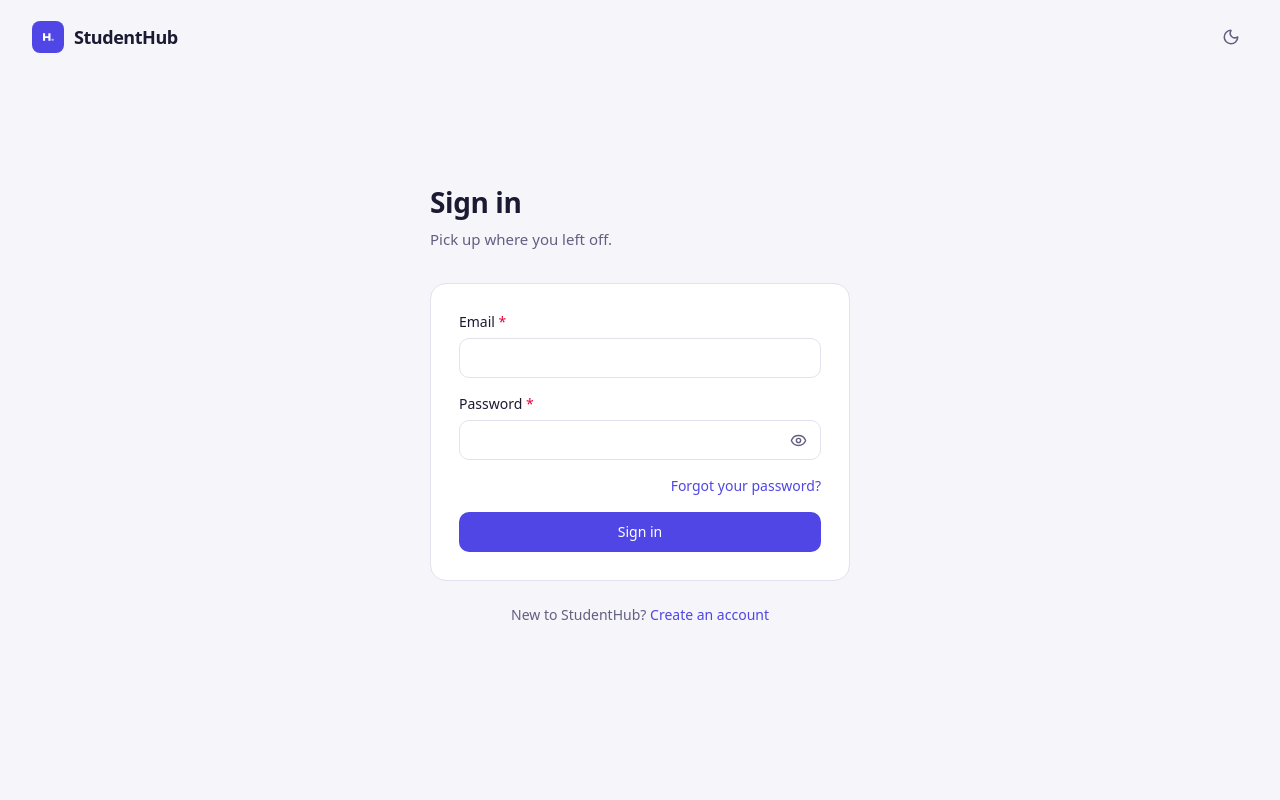
Login page › shows the server's message when sign-in fails
This screenshot has width=1280, height=800.
In the field labelled "Email *": (640, 358) [459,338,821,378], type "asha@example.com"
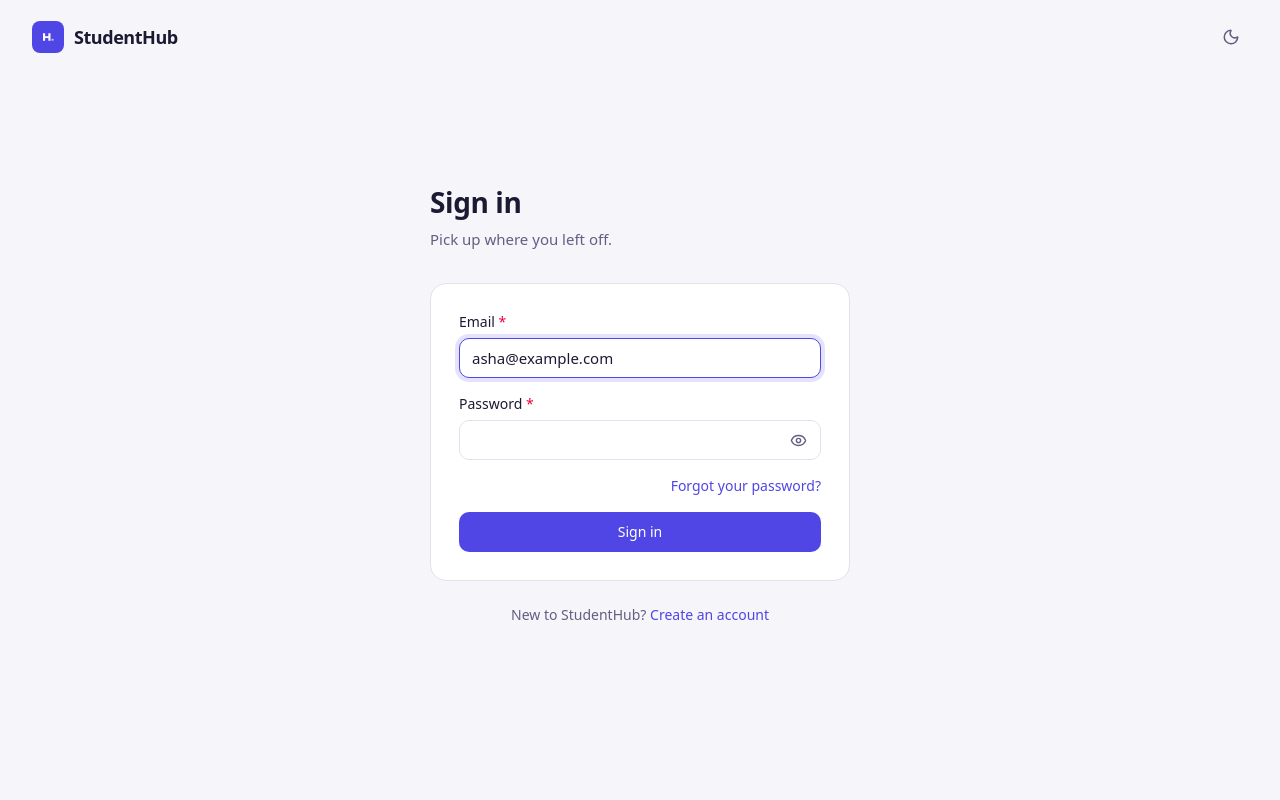
In the password field labelled "Password *": (640, 440) [459,420,821,460], type "wrongpass1"
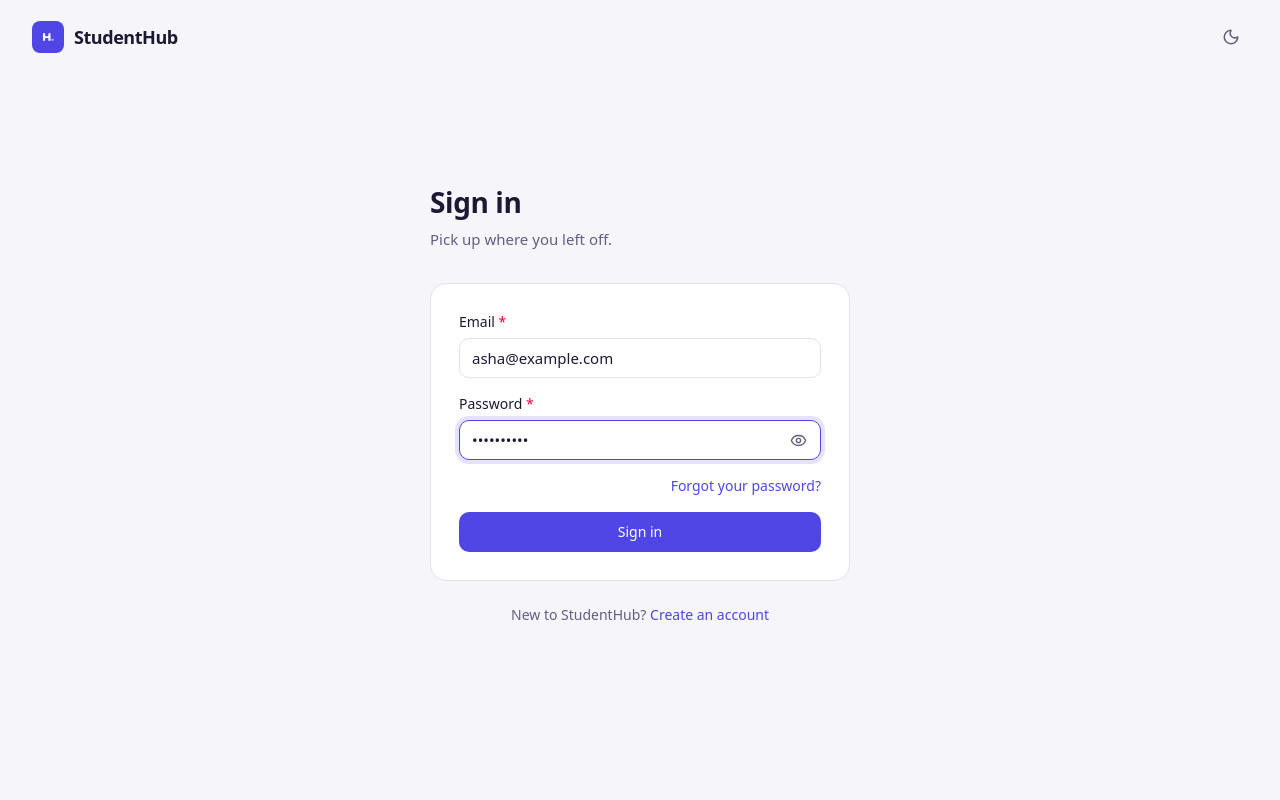
Click the button "Sign in": (640, 532) [459,512,821,552]
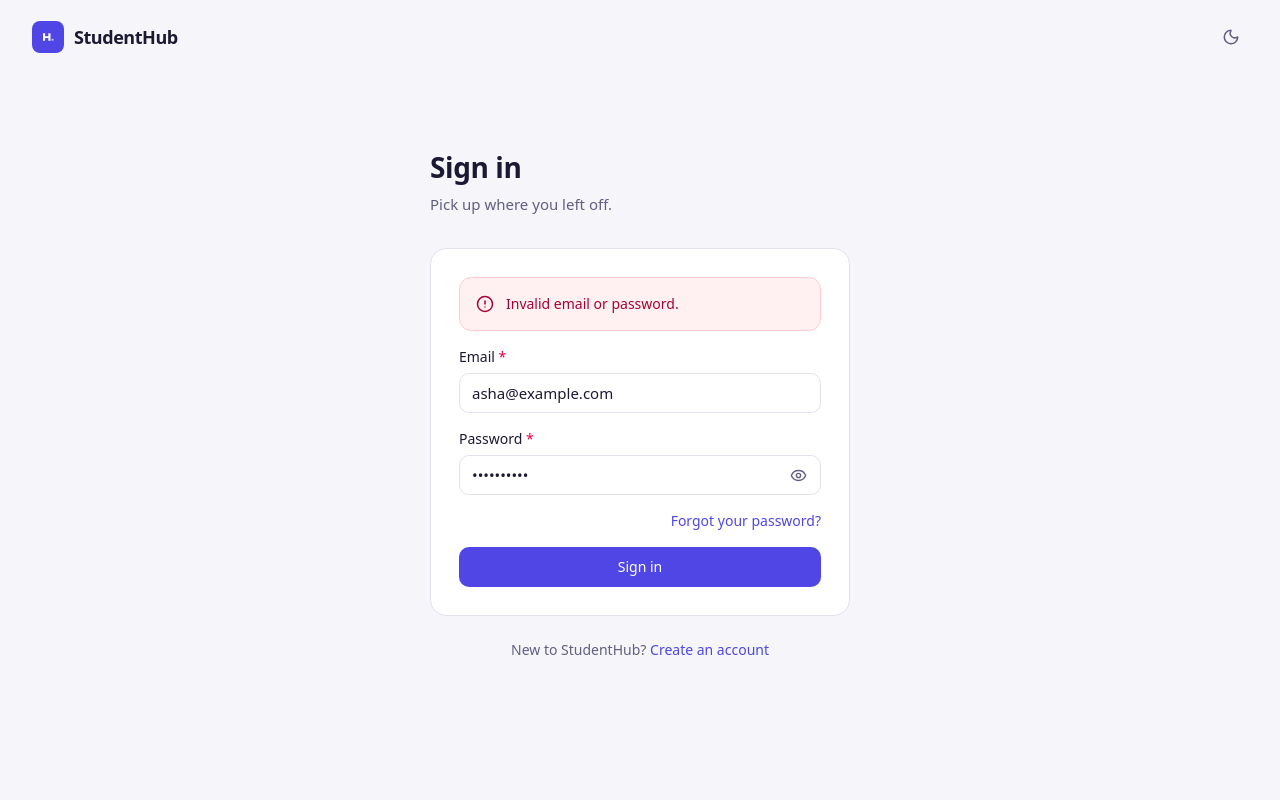
Now the message reads "Invalid email or password.", box [506,294,679,313]
